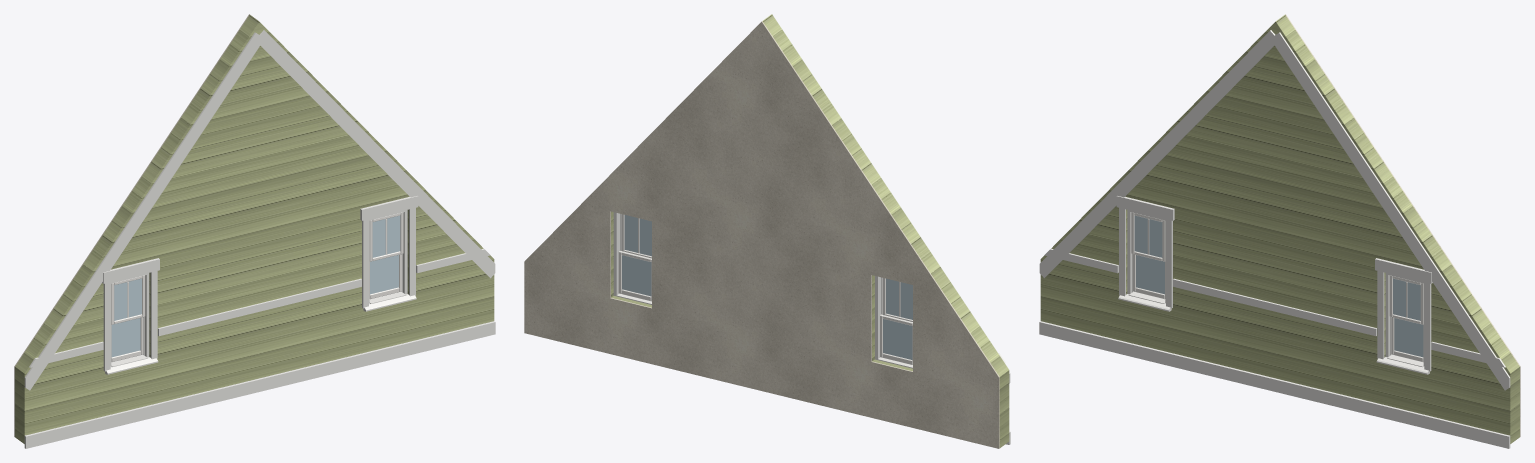
The model's file is gable_siding_pair.glb.
3 renders of one model, left to right at view 1: azimuth 30°, elevation 25°; view 2: azimuth 150°, elevation 25°; view 3: azimuth 330°, elevation 25°, orthographic.
Parts seen in each view (by area): view 1: gable_siding_pair_siding, gable_siding_pair_trim, gable_siding_pair_glass, gable_siding_pair_sash, gable_siding_pair_frame, gable_siding_pair_plaster; view 2: gable_siding_pair_plaster, gable_siding_pair_siding, gable_siding_pair_glass, gable_siding_pair_sash, gable_siding_pair_frame; view 3: gable_siding_pair_siding, gable_siding_pair_trim, gable_siding_pair_glass, gable_siding_pair_sash, gable_siding_pair_frame, gable_siding_pair_plaster.
Boxes of the visible parts, left/top/right/bottom form: gable_siding_pair_siding: left=15, top=15, right=494, bottom=443; gable_siding_pair_trim: left=24, top=30, right=495, bottom=448; gable_siding_pair_glass: left=111, top=215, right=400, bottom=357; gable_siding_pair_sash: left=111, top=212, right=403, bottom=361; gable_siding_pair_frame: left=110, top=210, right=407, bottom=365; gable_siding_pair_plaster: left=14, top=14, right=249, bottom=436; gable_siding_pair_plaster: left=524, top=21, right=999, bottom=448; gable_siding_pair_siding: left=611, top=14, right=1009, bottom=447; gable_siding_pair_glass: left=622, top=215, right=912, bottom=359; gable_siding_pair_sash: left=618, top=214, right=912, bottom=364; gable_siding_pair_frame: left=613, top=212, right=882, bottom=359; gable_siding_pair_siding: left=1040, top=15, right=1519, bottom=443; gable_siding_pair_trim: left=1039, top=30, right=1510, bottom=448; gable_siding_pair_glass: left=1134, top=215, right=1423, bottom=357; gable_siding_pair_sash: left=1131, top=212, right=1423, bottom=361; gable_siding_pair_frame: left=1127, top=210, right=1424, bottom=365; gable_siding_pair_plaster: left=1285, top=14, right=1520, bottom=436.
Bounding box in the file's own units: 8 × 6.01 × 0.38.
6 materials, 2 textured.
